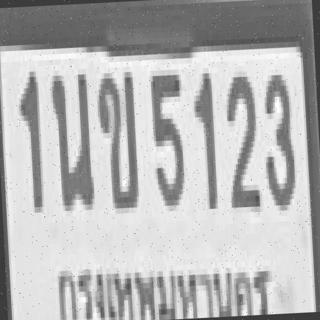A02: (94, 66, 137, 209)
A25: (50, 69, 93, 206)
N01: (17, 66, 42, 208), (190, 68, 216, 204)
N02: (223, 68, 258, 205)
N03: (259, 69, 294, 206)
N05: (148, 69, 186, 206)
P04: (52, 240, 278, 320)
